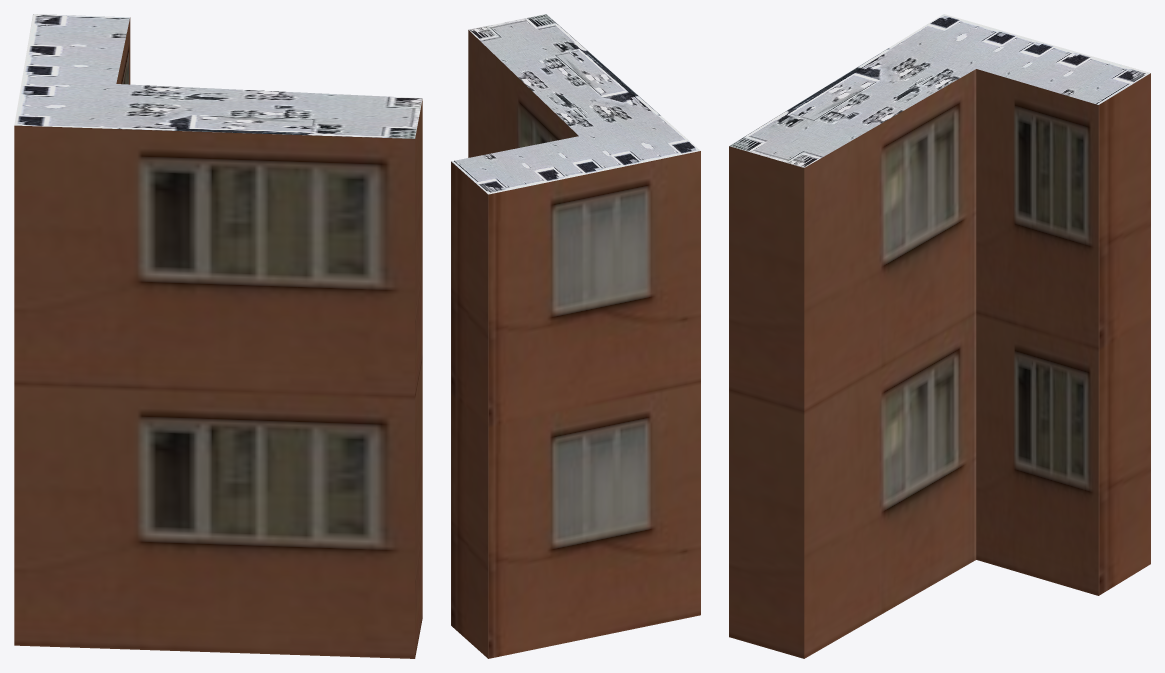
Rendered from ResTex__3241.fbx.
3 renders of one model, left to right at view 1: azimuth 30°, elevation 25°; view 2: azimuth 150°, elevation 25°; view 3: azimuth 270°, elevation 25°, orthographic. The views are drawn at different scales.
Visible parts, largest first — view 1: CityEngineMaterial_20_m, CityEngineMaterial_m; view 2: CityEngineMaterial_20_m, CityEngineMaterial_m; view 3: CityEngineMaterial_20_m, CityEngineMaterial_m.
Part boxes in pixels (x1,y1,x2,y2): CityEngineMaterial_20_m: (14, 17, 422, 658); CityEngineMaterial_m: (14, 14, 422, 138); CityEngineMaterial_20_m: (451, 30, 700, 658); CityEngineMaterial_m: (451, 14, 700, 194); CityEngineMaterial_20_m: (729, 69, 1150, 658); CityEngineMaterial_m: (729, 14, 1150, 167).
Size of the model in its own units: 4.04 by 6 by 4.67.
Materials: 2 (2 with a texture image).
